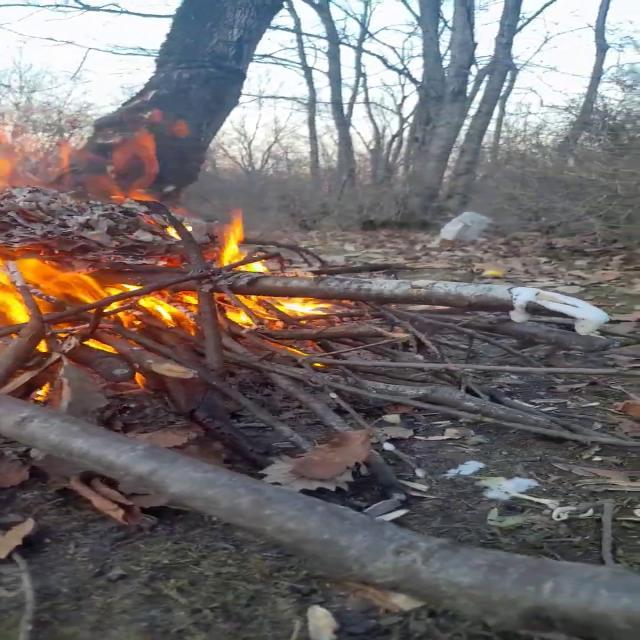Fire: (1, 209, 334, 367)
